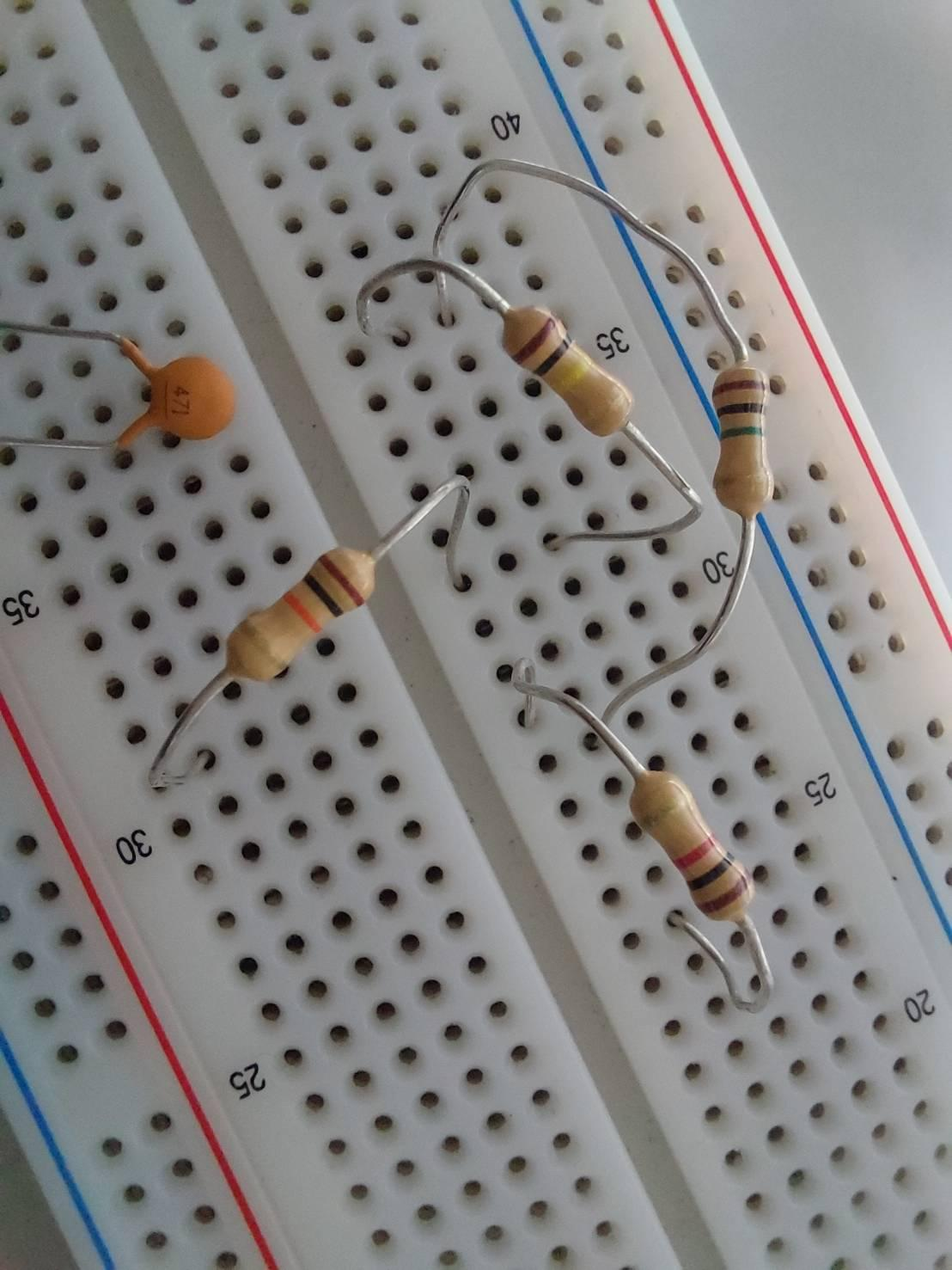resistor: (195, 516, 406, 695), (622, 760, 775, 927), (492, 294, 648, 436), (707, 359, 793, 528)
